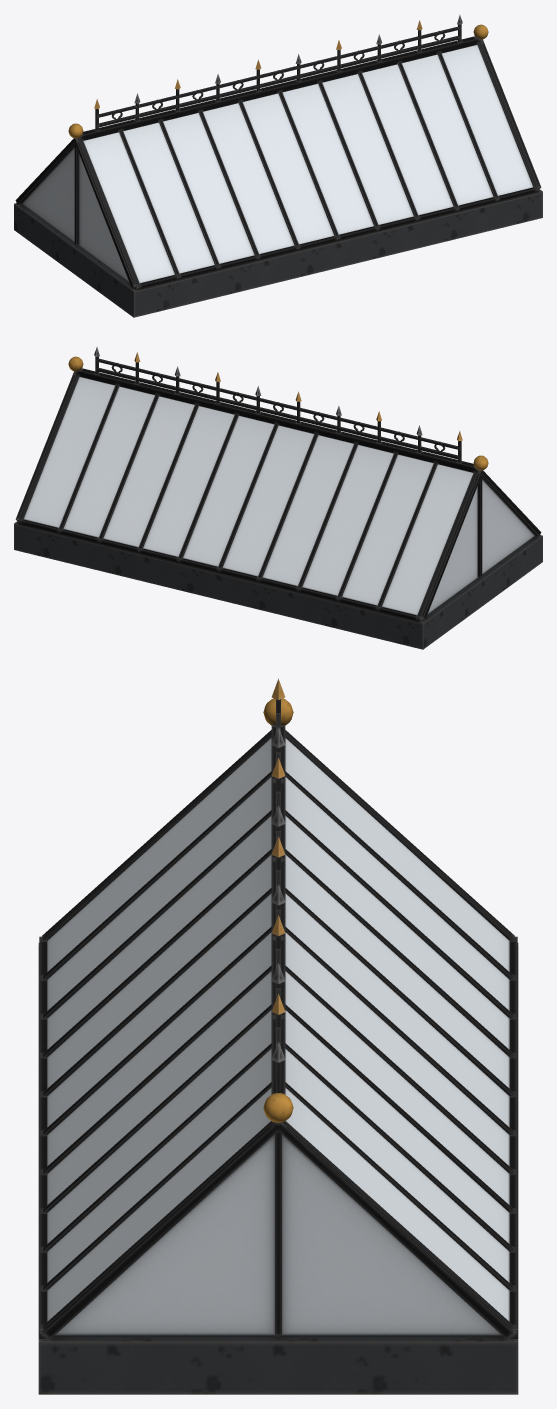
File: SkylightRoof.fbx
3 views of the same model, one above another, from view 1: azimuth 30°, elevation 25°; view 2: azimuth 150°, elevation 25°; view 3: azimuth 270°, elevation 25° (orthographic). The views are drawn at different scales.
Visible parts, largest first — view 1: SkylightRoof_Glass, SkylightRoof_Main; view 2: SkylightRoof_Glass, SkylightRoof_Main; view 3: SkylightRoof_Glass, SkylightRoof_Main.
Boxes of the visible parts, left/top/right/bottom form: SkylightRoof_Glass: left=22, top=45, right=533, bottom=283; SkylightRoof_Main: left=14, top=14, right=542, bottom=317; SkylightRoof_Glass: left=23, top=377, right=534, bottom=615; SkylightRoof_Main: left=14, top=346, right=542, bottom=649; SkylightRoof_Glass: left=47, top=738, right=509, bottom=1335; SkylightRoof_Main: left=38, top=678, right=518, bottom=1394.
Size of the model in its own units: 830 by 322 by 412.
